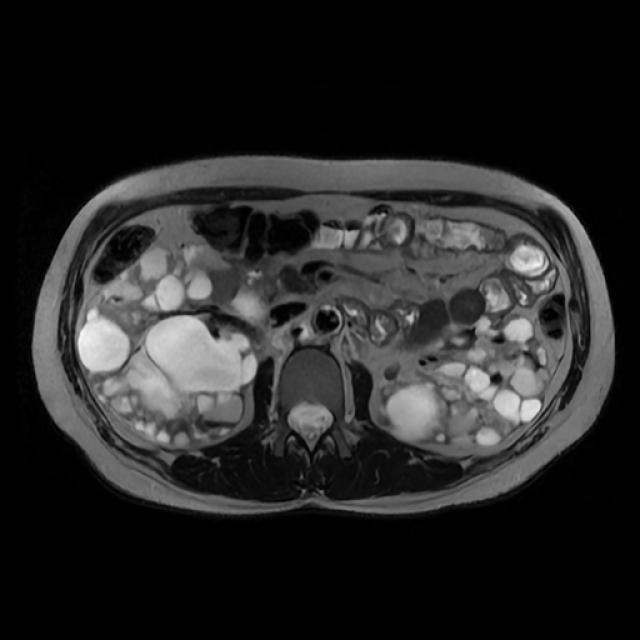sag: (76, 242, 269, 448)
sol: (375, 312, 550, 448)
